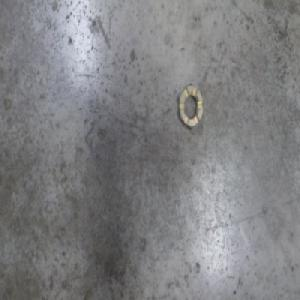Nut: (179, 81, 203, 131)
